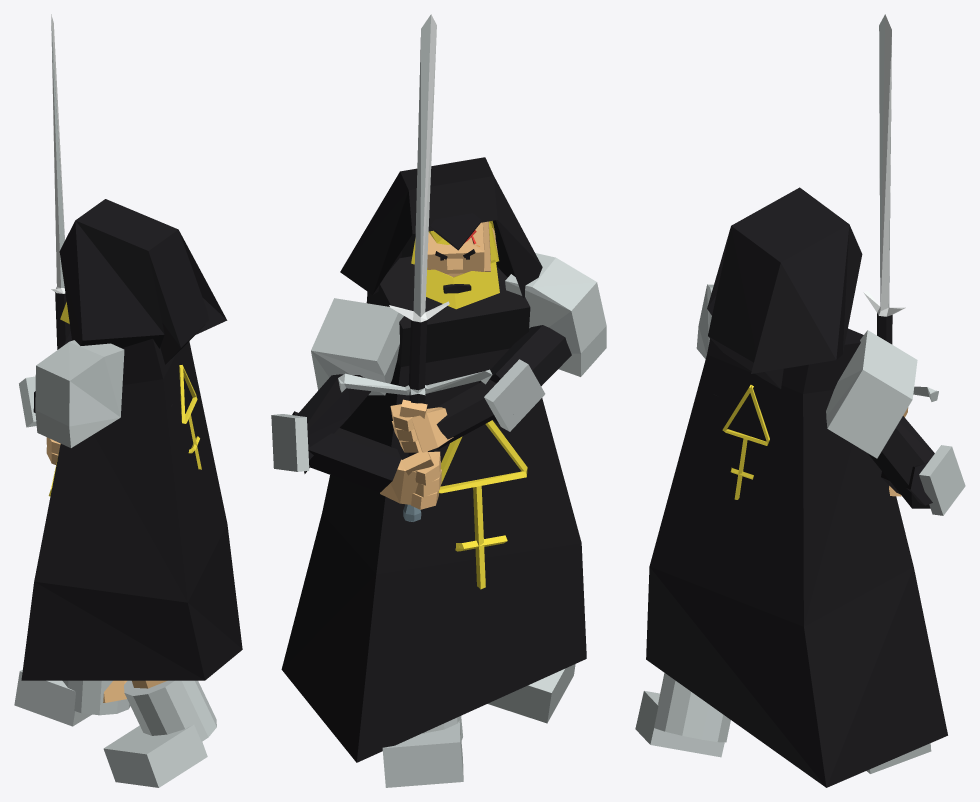
Rendered from epo2isfzFPJ.glb.
The picture shows the model from 3 angles, left to right: view 1: azimuth 30°, elevation 25°; view 2: azimuth 150°, elevation 25°; view 3: azimuth 270°, elevation 25°; orthographic projection. The views are drawn at different scales.
Visible parts, largest first — view 1: group1711130154; view 2: group1711130154; view 3: group1711130154.
Boxes of the visible parts, x1,y1,x2,y2 form: group1711130154: [14, 14, 242, 787]; group1711130154: [271, 14, 606, 787]; group1711130154: [635, 14, 965, 787].
Bounding box in the file's own units: 0.2808 × 0.7552 × 0.3063.
Materials: 1 (1 with a texture image).
